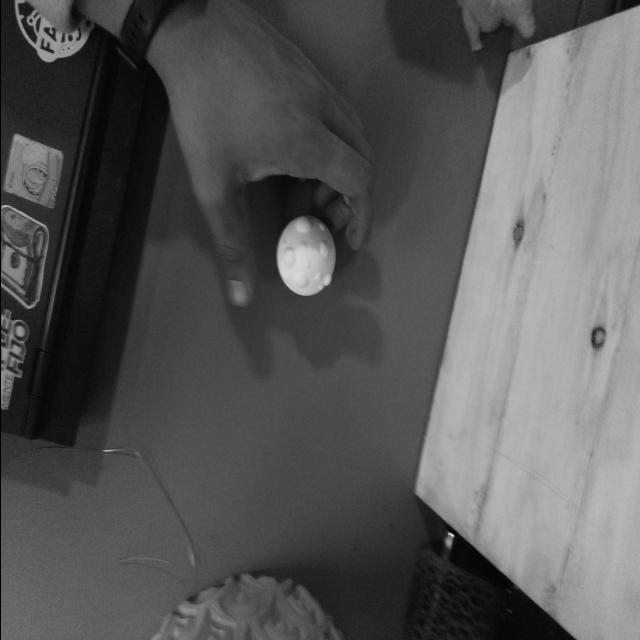Hongo: (272, 208, 338, 304)
